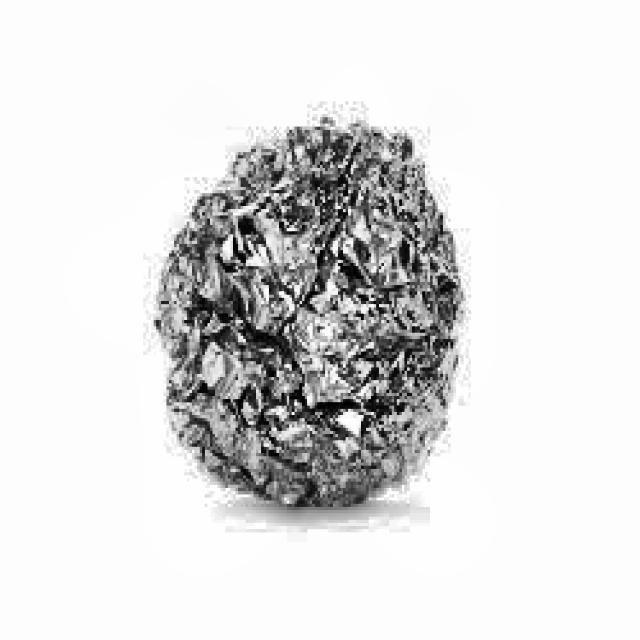Foil: (152, 108, 490, 514)
